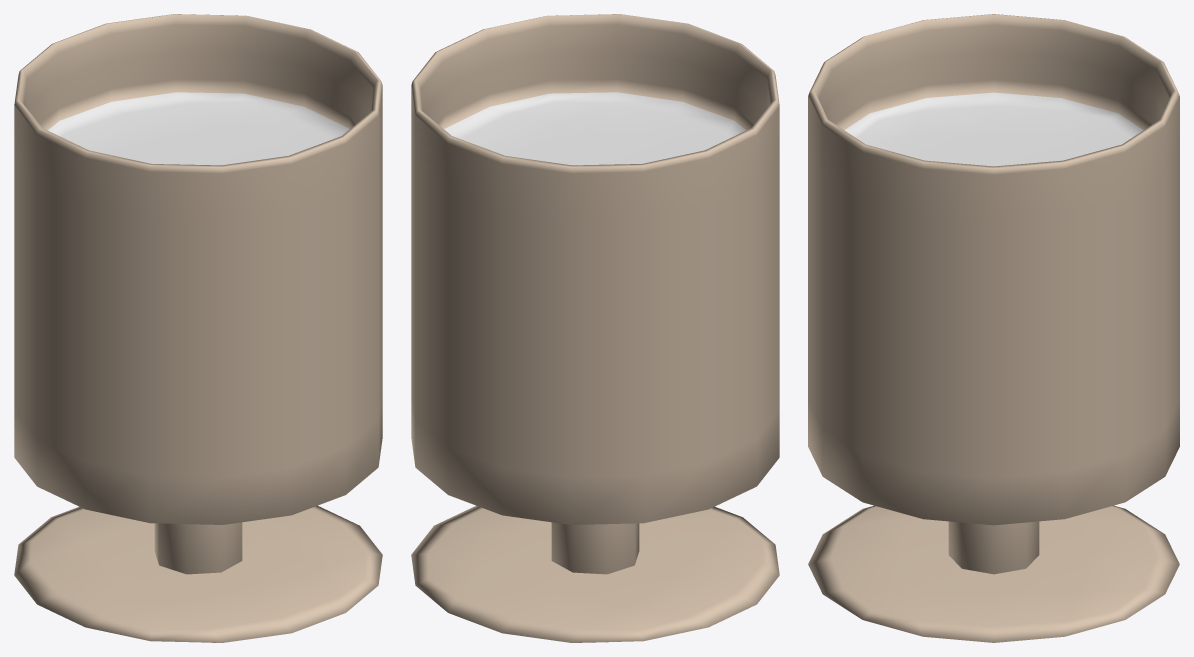
File: Lobby_light.fbx
3 views of the same model, side by side, from view 1: azimuth 30°, elevation 25°; view 2: azimuth 150°, elevation 25°; view 3: azimuth 270°, elevation 25° (orthographic).
Visible parts, largest first — view 1: light, stand, support; view 2: light, stand, support; view 3: light, stand, support.
Part boxes in pixels (left/top/right/bottom): light: left=14, top=14, right=382, bottom=524; stand: left=14, top=505, right=382, bottom=642; support: left=154, top=522, right=242, bottom=574; light: left=411, top=14, right=779, bottom=524; stand: left=411, top=505, right=779, bottom=642; support: left=551, top=522, right=639, bottom=574; light: left=808, top=14, right=1179, bottom=525; stand: left=808, top=505, right=1179, bottom=642; support: left=948, top=521, right=1039, bottom=574.
Bounding box in the file's own units: 1.85 × 2.66 × 1.85.
